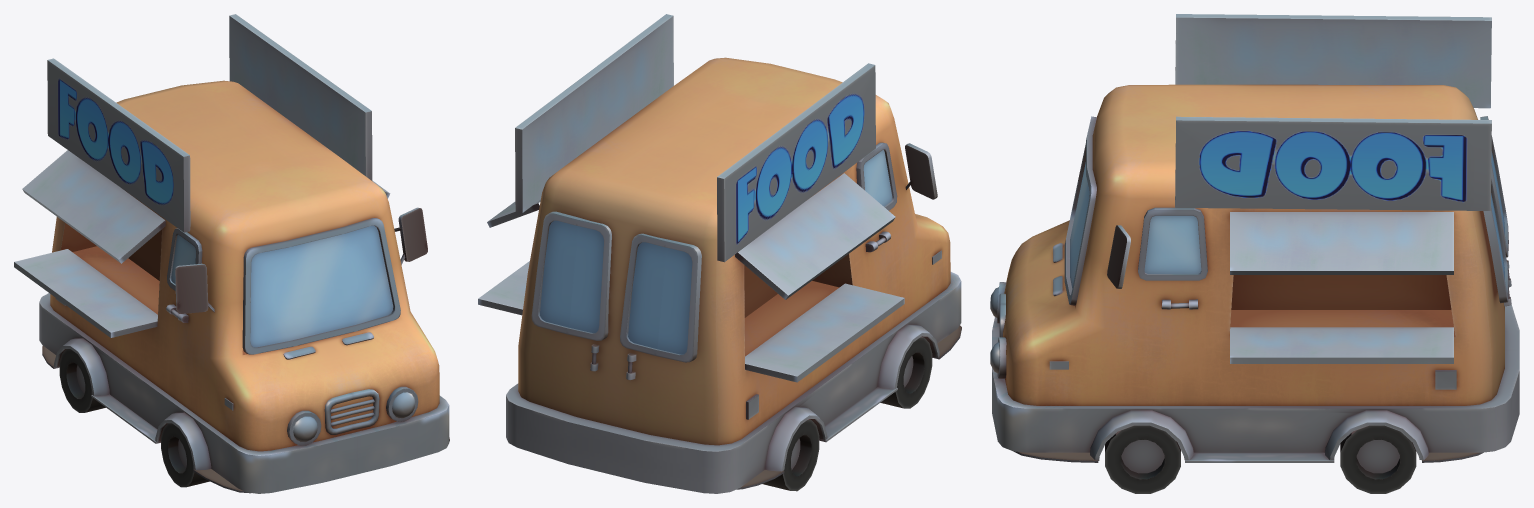
The model's file is food truck_3.fbx.
3 renders of one model, left to right at view 1: azimuth 30°, elevation 25°; view 2: azimuth 150°, elevation 25°; view 3: azimuth 270°, elevation 25°, orthographic. The views are drawn at different scales.
Parts seen in each view (by area): view 1: Cube.148, Cube.227, Cube.160, Cube.142, Cube.228, Cube.143, Cube.123, Plane.015, Cylinder.037, Cylinder.057, Cylinder.042, Circle.012 (+6 smaller); view 2: Cube.148, Cube.227, Cube.160, Cube.146, Cube.228, Cube.143, Cylinder.042, Cylinder.057, Cube.144, Circle.013, Circle.012, Plane.015 (+1 smaller); view 3: Cube.148, Cube.227, Cube.160, Cube.228, Cube.143, Cube.144, Cylinder.042, Cylinder.057, Cube.146, Cube.123, Circle.013, Circle.012 (+5 smaller).
Part boxes in pixels (x1,y1,x2,y2): Cube.148: (50, 80, 439, 451); Cube.227: (47, 14, 372, 232); Cube.160: (39, 293, 449, 493); Cube.142: (250, 225, 393, 347); Cube.228: (22, 150, 390, 263); Cube.143: (14, 249, 157, 337); Cube.123: (242, 218, 400, 354); Plane.015: (175, 207, 427, 313); Cylinder.037: (287, 386, 418, 445); Cylinder.057: (161, 423, 209, 487); Cylinder.042: (59, 349, 105, 412); Circle.012: (155, 412, 211, 470); Cube.148: (518, 57, 950, 445); Cube.227: (515, 14, 875, 262); Cube.160: (506, 272, 961, 493); Cube.146: (531, 211, 701, 362); Cube.228: (487, 173, 895, 299); Cube.143: (478, 261, 904, 382); Cylinder.042: (762, 419, 819, 491); Cylinder.057: (880, 336, 932, 408); Cube.144: (856, 142, 897, 210); Circle.013: (765, 407, 827, 471); Circle.012: (877, 324, 939, 388); Plane.015: (905, 143, 937, 199); Cube.148: (1003, 84, 1504, 405); Cube.227: (1175, 14, 1491, 210); Cube.160: (992, 304, 1519, 452); Cube.228: (1230, 212, 1453, 274); Cube.143: (1230, 327, 1453, 363); Cube.144: (1138, 207, 1207, 280); Cylinder.042: (1340, 425, 1416, 493); Cylinder.057: (1105, 425, 1180, 493); Cube.146: (1480, 116, 1508, 303); Cube.123: (1064, 116, 1096, 305); Circle.013: (1325, 410, 1428, 460); Circle.012: (1090, 410, 1193, 460).
Bounding box in the file's own units: 2.59 × 2.69 × 3.56.
